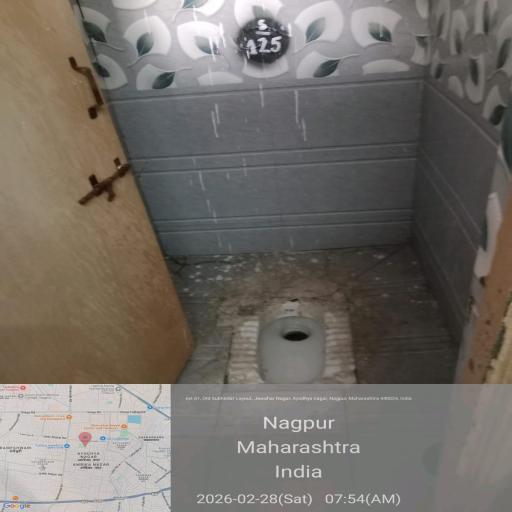clean_floor: (144, 15, 494, 218), (0, 24, 175, 378)
dirty_floor: (139, 222, 469, 388)
dirty_indian: (222, 301, 351, 384)
